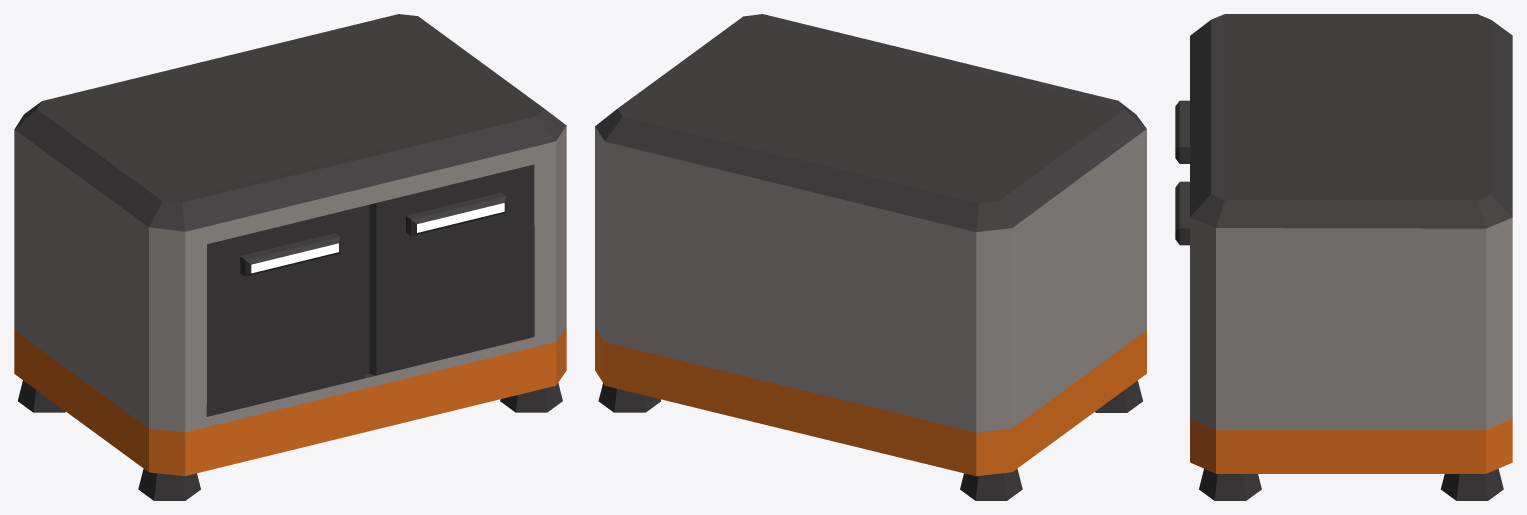
File: scifi_scifi-cabinet-large.fbx
The picture shows the model from 3 angles, left to right: view 1: azimuth 30°, elevation 25°; view 2: azimuth 150°, elevation 25°; view 3: azimuth 270°, elevation 25°; orthographic projection.
Visible parts, largest first — view 1: scifi_scifi_cabinet_large; view 2: scifi_scifi_cabinet_large; view 3: scifi_scifi_cabinet_large.
Part boxes in pixels (x1,y1,x2,y2): scifi_scifi_cabinet_large: [14, 14, 566, 500]; scifi_scifi_cabinet_large: [595, 14, 1146, 500]; scifi_scifi_cabinet_large: [1175, 14, 1512, 500].
Bounding box in the file's own units: 200 × 134 × 139.
